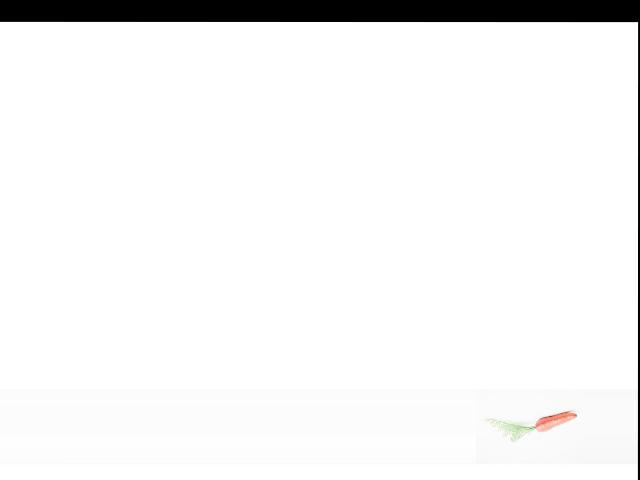carrot: (532, 403, 580, 433)
